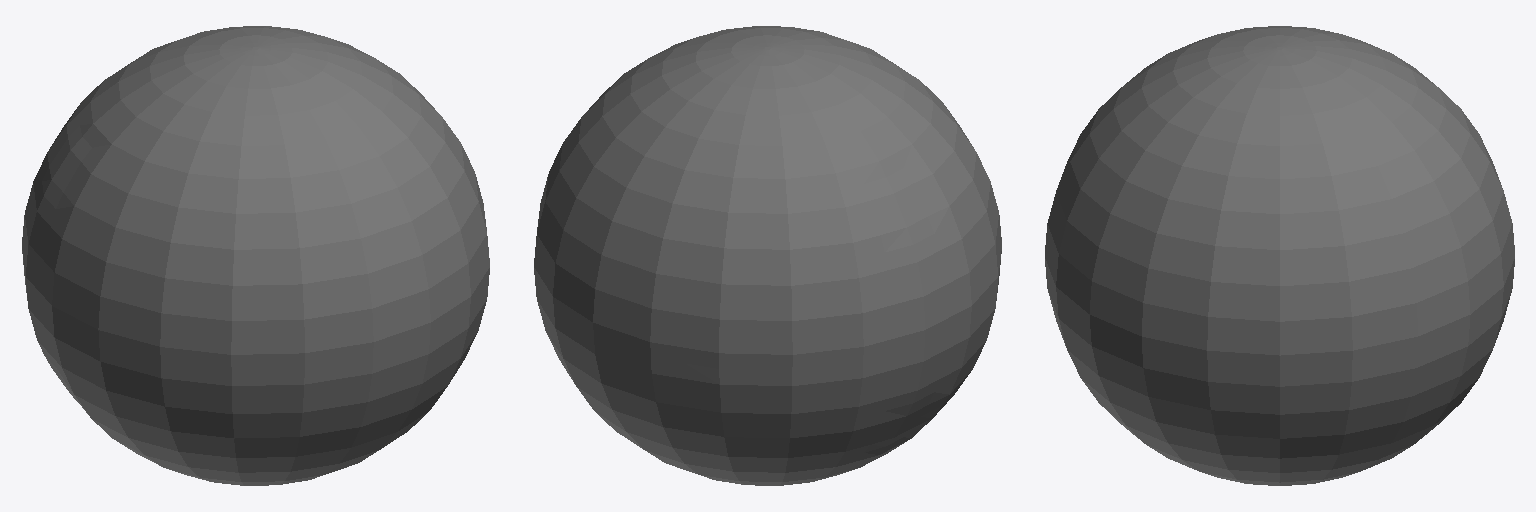
Rendered from Mercury.obj.
3 views of the same model, side by side, from view 1: azimuth 30°, elevation 25°; view 2: azimuth 150°, elevation 25°; view 3: azimuth 270°, elevation 25° (orthographic).
Parts seen in each view (by area): view 1: Mercury; view 2: Mercury; view 3: Mercury.
Part boxes in pixels (bbox=[...]): Mercury: bbox=[22, 26, 489, 485]; Mercury: bbox=[534, 26, 1001, 485]; Mercury: bbox=[1045, 26, 1514, 485].
Size of the model in its own units: 75.93 by 73.88 by 75.93.